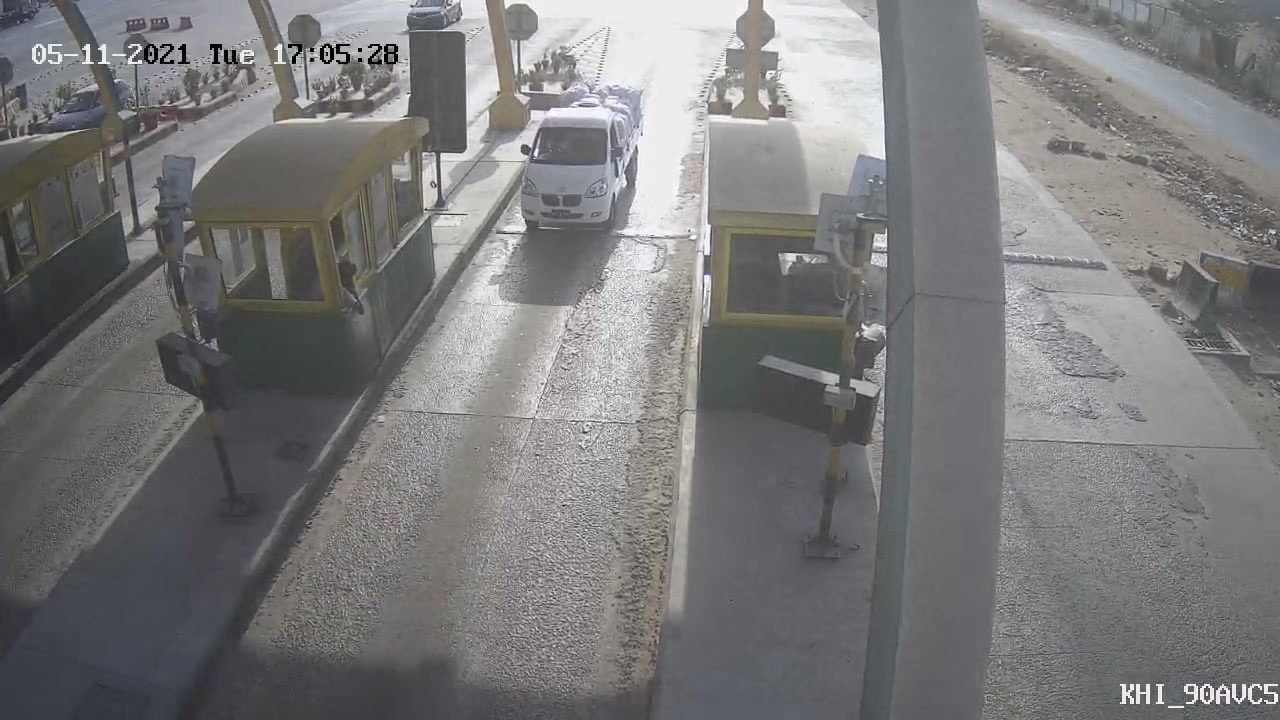F2: (495, 66, 666, 252)
